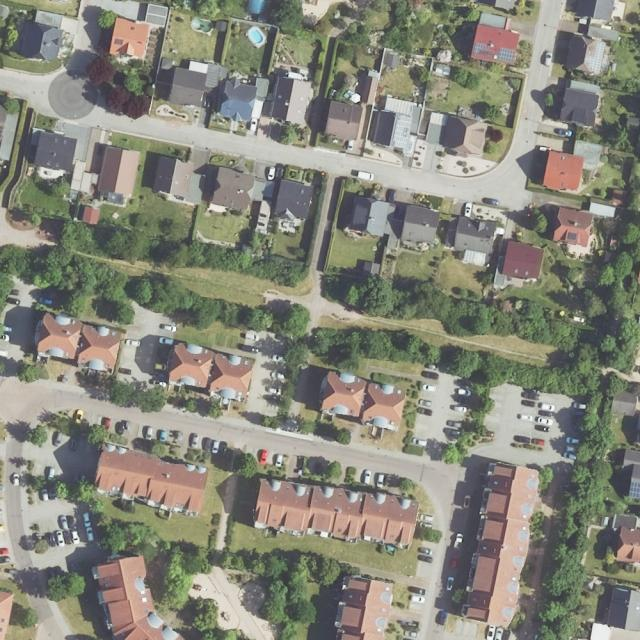PV: (393, 115, 411, 149), (585, 41, 604, 72), (498, 47, 515, 63), (473, 42, 486, 56)
ST: (478, 50, 493, 56), (113, 39, 123, 46), (566, 233, 576, 240)
